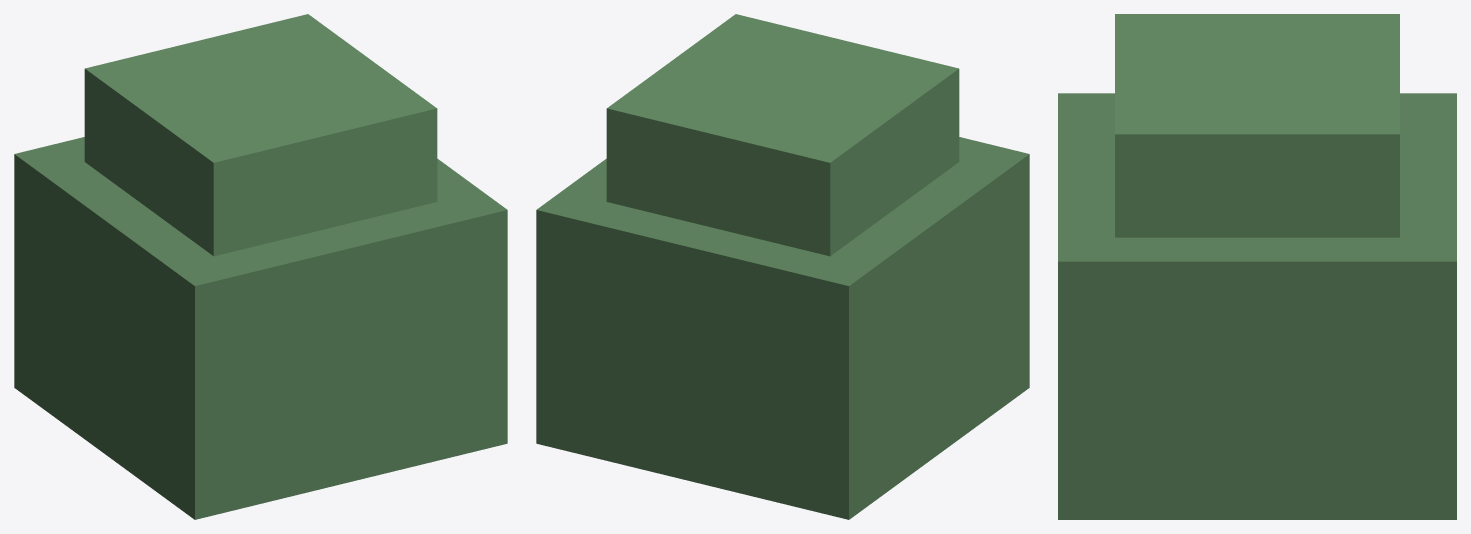
File: seto_silvestre_02.glb
The picture shows the model from 3 angles, left to right: view 1: azimuth 30°, elevation 25°; view 2: azimuth 150°, elevation 25°; view 3: azimuth 270°, elevation 25°; orthographic projection. The views are drawn at different scales.
Visible parts, largest first — view 1: seto_silvestre_02; view 2: seto_silvestre_02; view 3: seto_silvestre_02.
Part boxes in pixels (x1,y1,x2,y2): seto_silvestre_02: [14, 14, 507, 519]; seto_silvestre_02: [536, 14, 1029, 519]; seto_silvestre_02: [1058, 14, 1456, 519].
Bounding box in the file's own units: 0.7 × 0.7 × 0.7.
